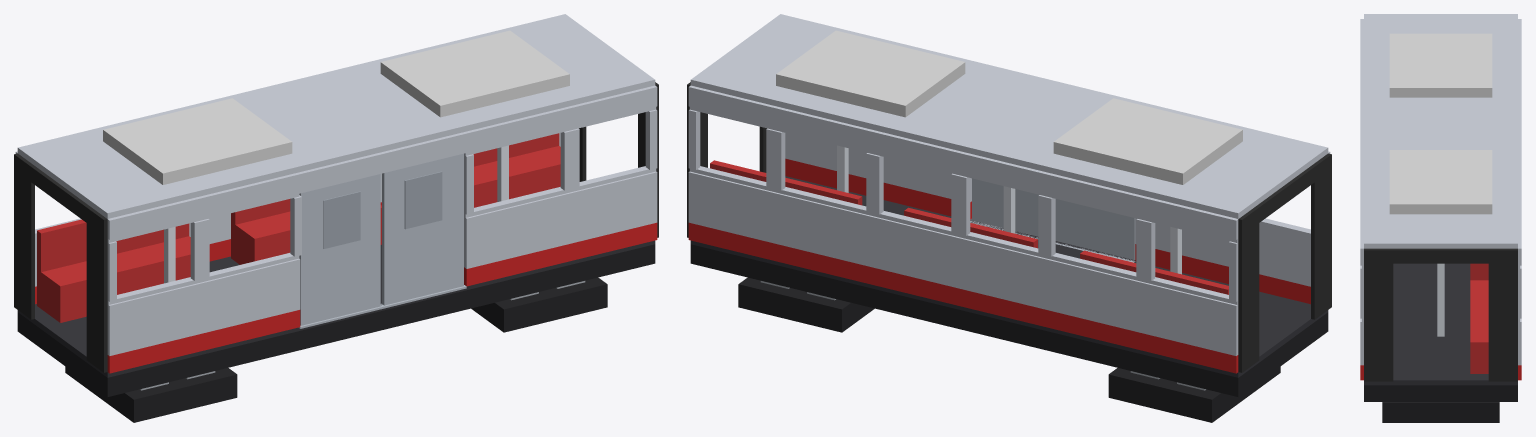
File: metro_wagon_closed_l3.obj
The picture shows the model from 3 angles, left to right: view 1: azimuth 30°, elevation 25°; view 2: azimuth 150°, elevation 25°; view 3: azimuth 270°, elevation 25°; orthographic projection. The views are drawn at different scales.
Size of the model in its own units: 3 by 1.26 by 0.88.
